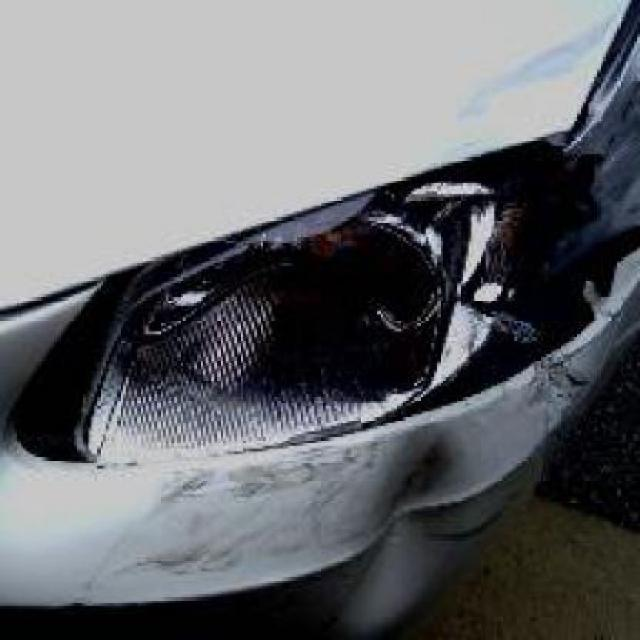damaged-head-light: (44, 143, 632, 460)
